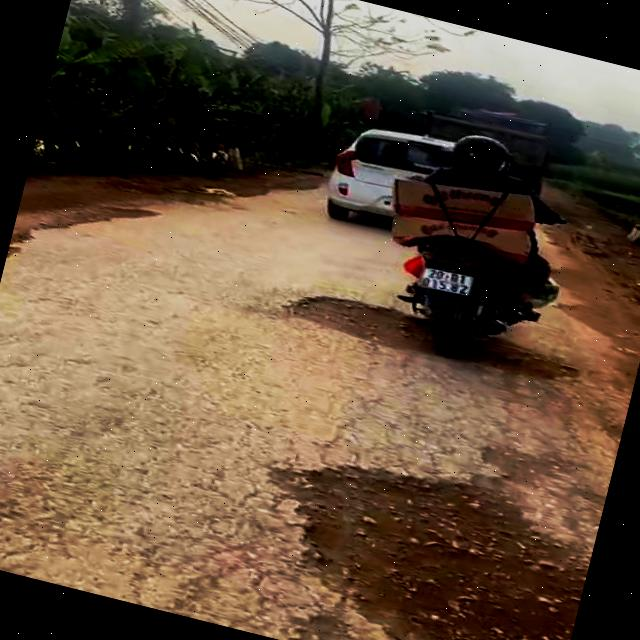pothole: (224, 418, 605, 640), (274, 276, 586, 396), (1, 177, 162, 310)
